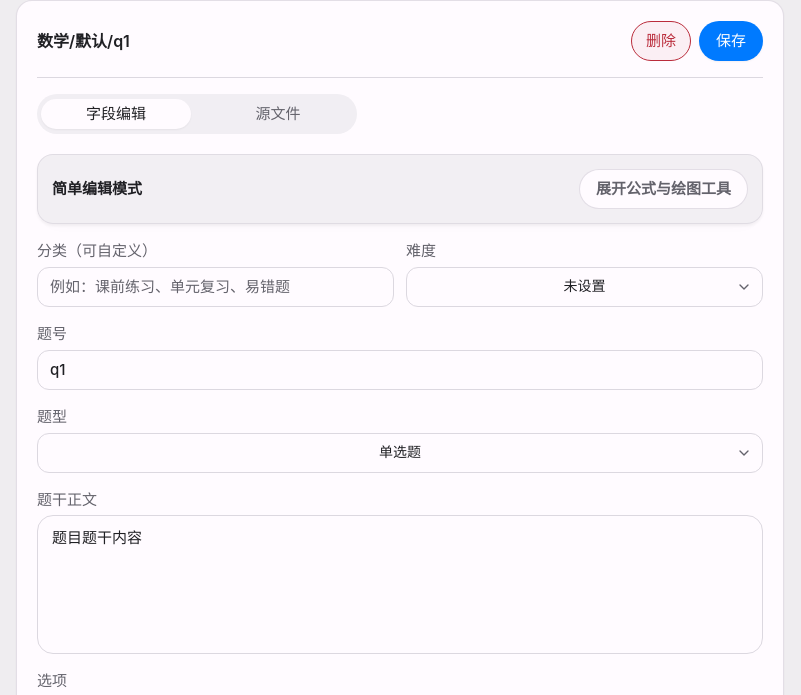
Test: BankQuestionEditorPanel User Journeys › Single Question Mode › blocks saving and displays an inline alert when edited question id duplicates an existing item
Replace the text in the field labelled "题号" with " 第二题 ". click: [400, 370]
box: [37,350,763,390]
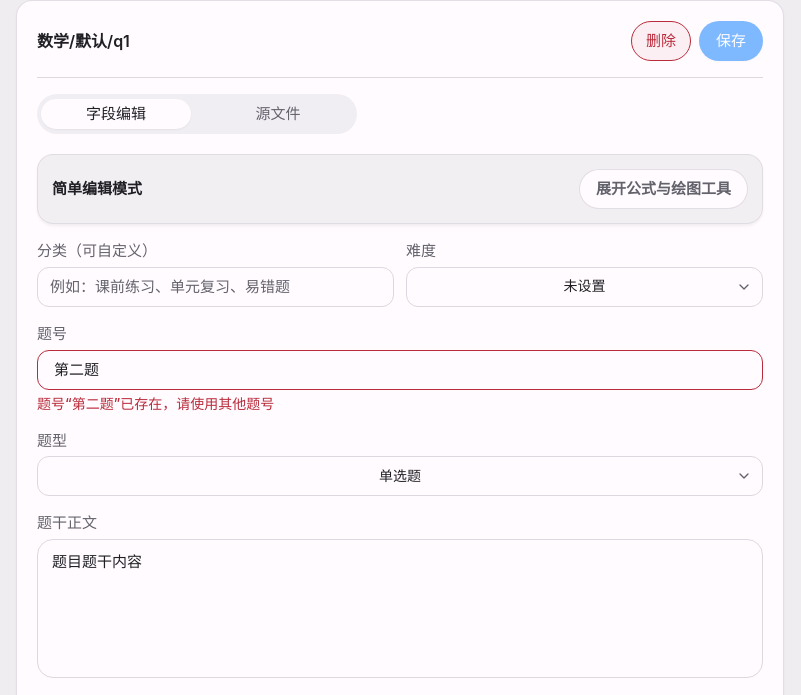
Expected: the message shows "题号“第二题”已存在", [37,395,274,412]
Expected: the button "保存" is disabled, [699,21,763,61]
Replace the text in the field labelled "题号" with "第三题". click: [400, 370]
box: [37,350,763,390]
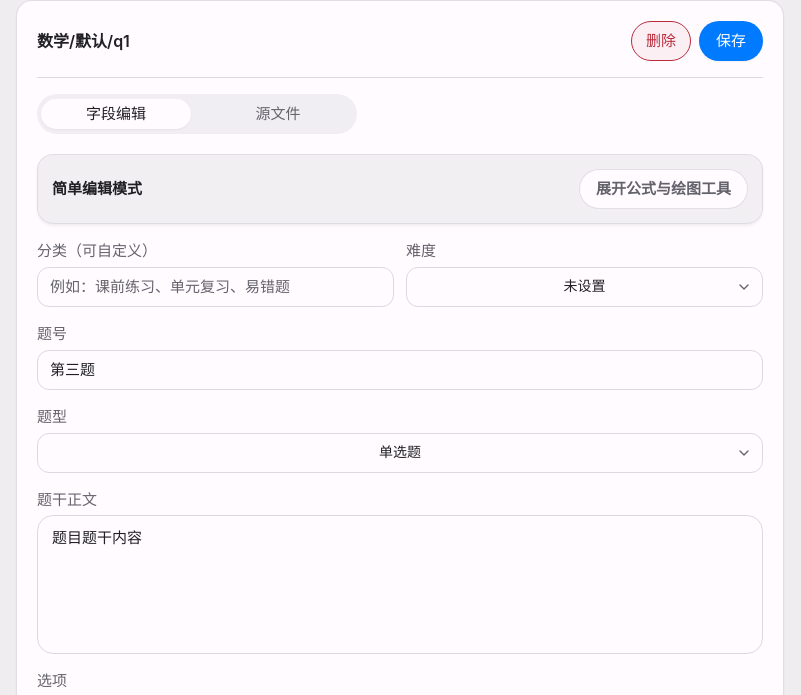
Expected: the message "题号“第二题”已存在，请使用其他题号" is gone
Expected: the button "保存" is enabled, [699,21,763,61]
